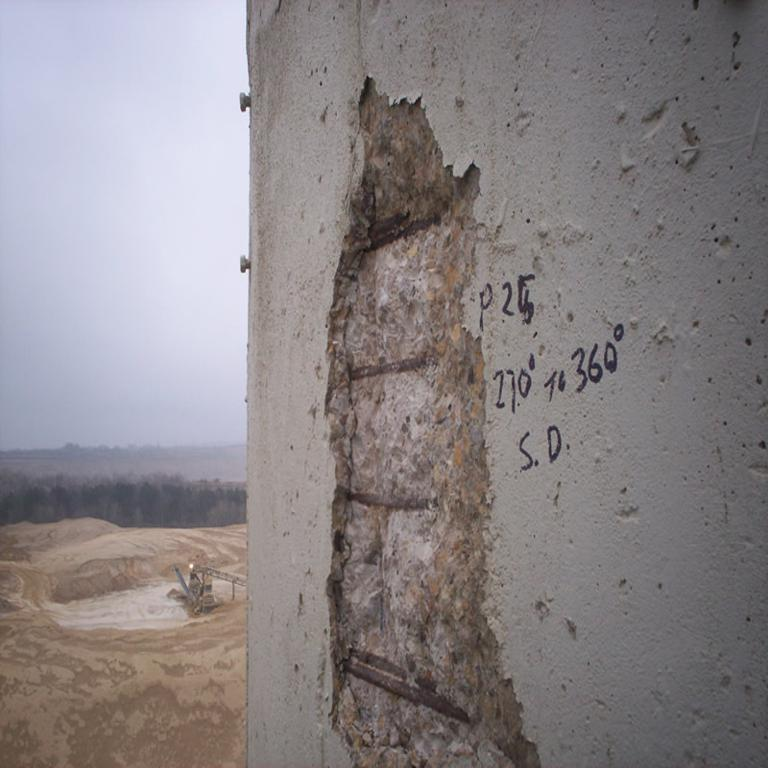exposed_rebar: (344, 651, 470, 722), (366, 212, 441, 250), (351, 356, 434, 380), (346, 492, 436, 509)
spalling: (327, 80, 540, 768)
